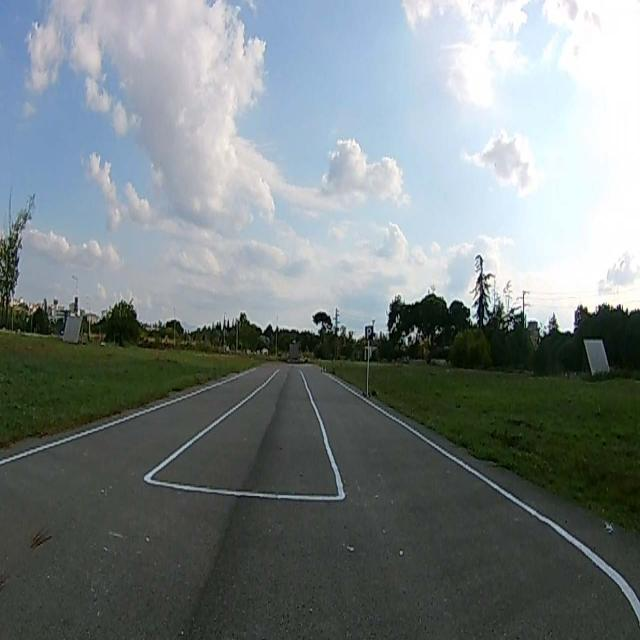park: (364, 324, 374, 342)
